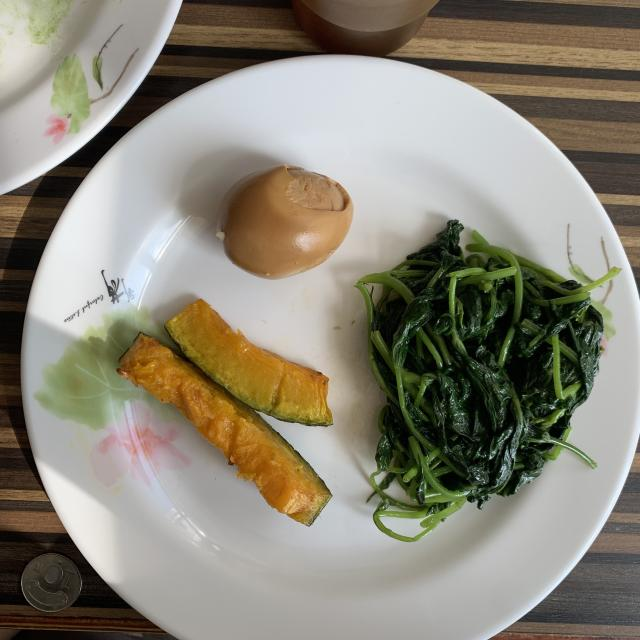coin: (21, 554, 81, 612)
pumpkin: (118, 300, 332, 526)
soy egg: (216, 165, 354, 279)
sweet potato leaves: (356, 220, 620, 541)
